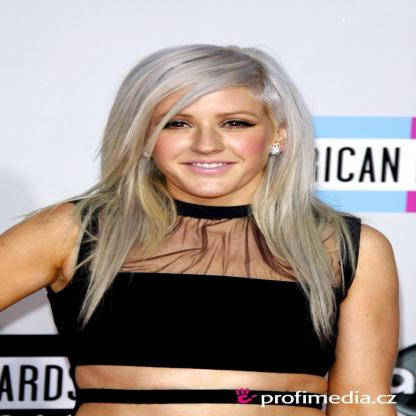long-hair: (90, 196, 327, 230)
